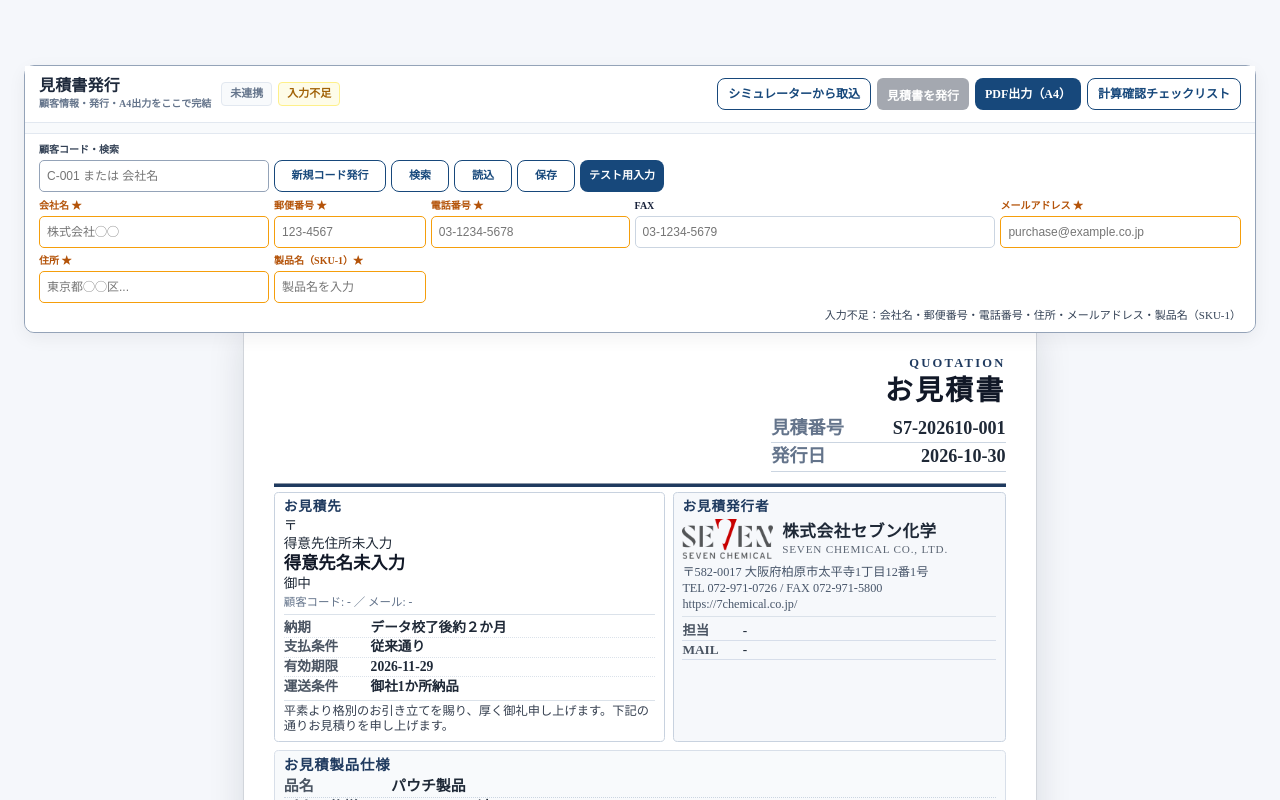
quotation page stale draft › keeps the issue panel fixed, restores saved customers, and fills test data
Type "既存" into the field with test id "customer-search-input".
click(154, 176); type("既存")  # box [39, 160, 269, 192]
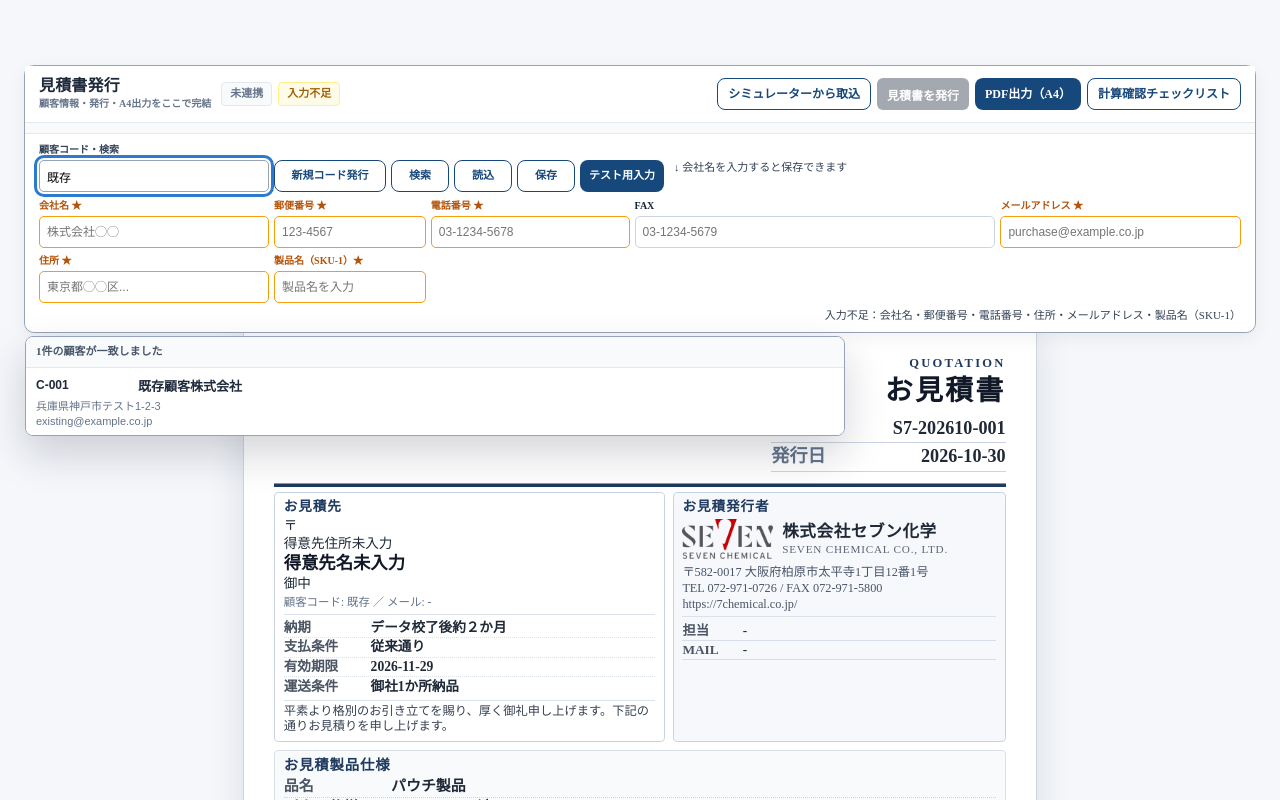
Check: the element with test id "issue-required-fields" that starts with "見積書発行" is shown, box [24, 65, 1256, 333]
Check: the element with test id "customer-search-results" is shown, box [25, 336, 845, 436]
Click the button "C-001 既存顧客株式会社 兵庫県神戸市テスト1-2-3 existing@example.co.jp".
click(52, 385)  # box [26, 368, 844, 435]
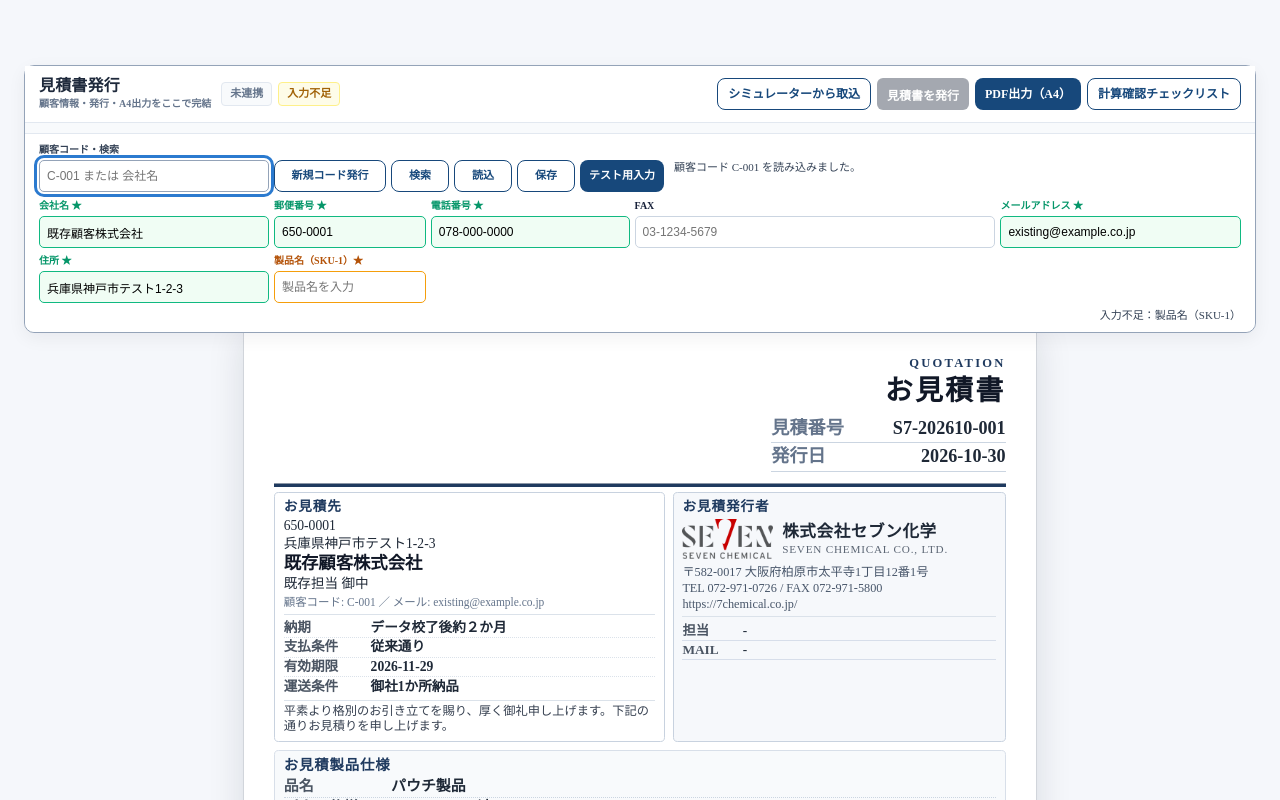
Check: the field labelled "会社名 ★" holds "既存顧客株式会社", box [39, 216, 269, 248]
Check: the field labelled "住所 ★" holds "兵庫県神戸市テスト1-2-3", box [39, 271, 269, 303]
Check: the field with test id "customer-email-input" holds "existing@example.co.jp", box [1000, 216, 1241, 248]
Click the button with test id "fill-test-data".
click(622, 176)  # box [580, 160, 664, 192]
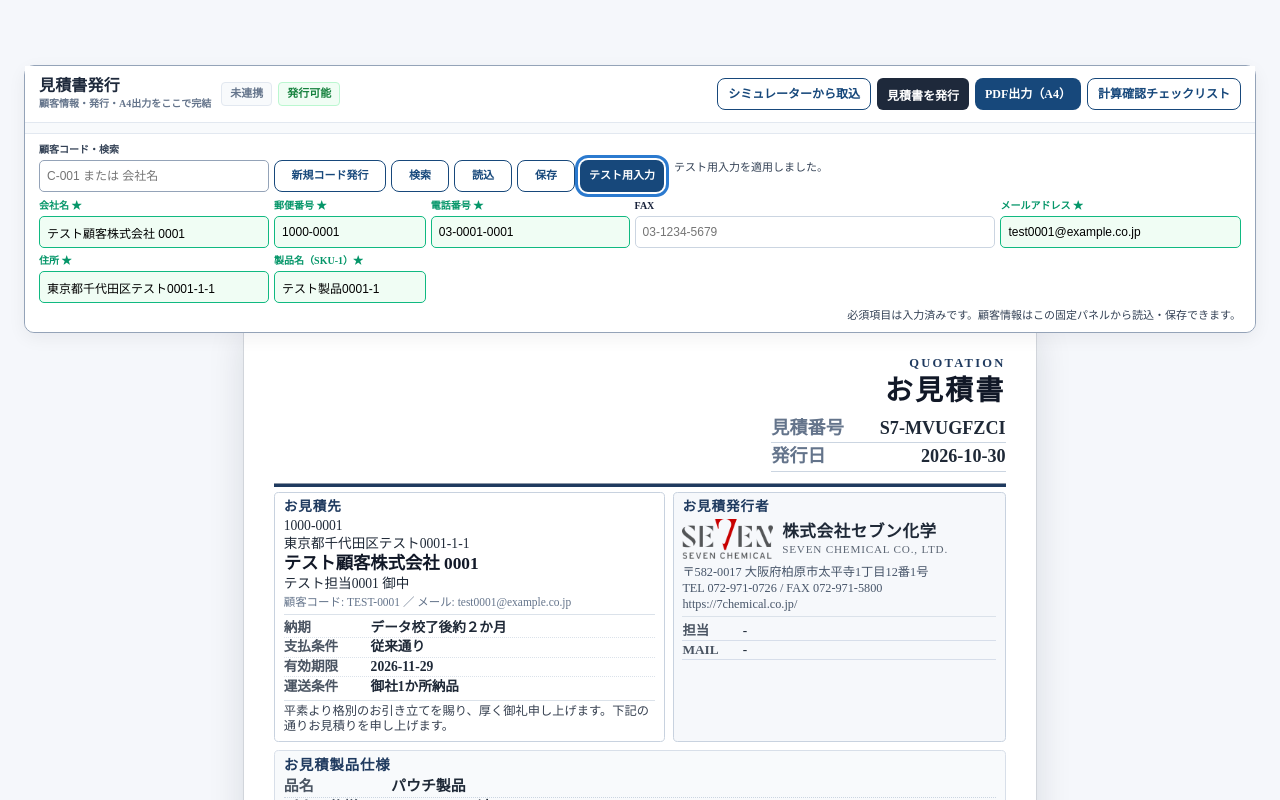
Check: the field labelled "FAX" is empty, box [634, 216, 995, 248]
Check: the button "見積書を発行" is enabled, box [877, 78, 969, 110]
